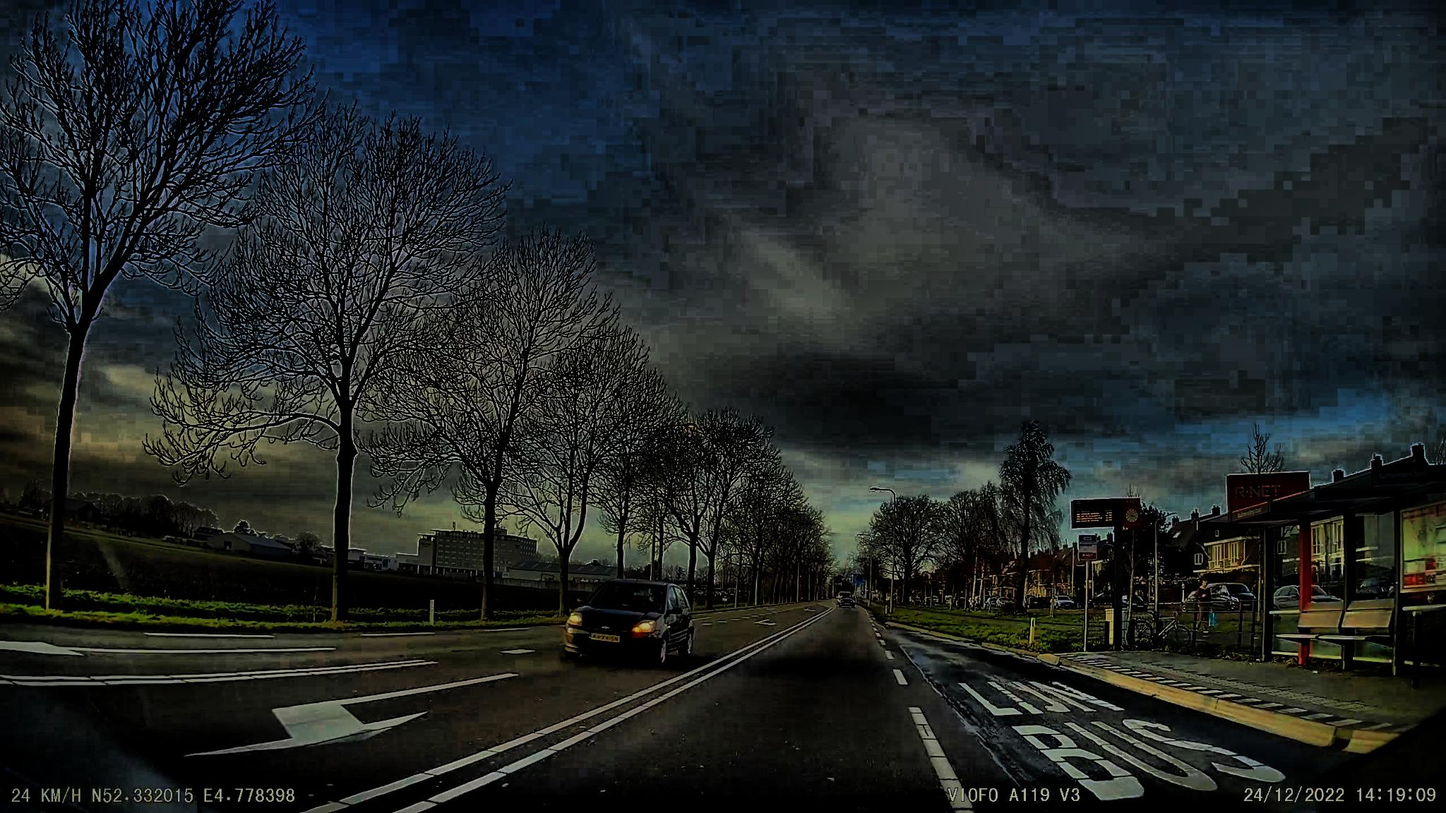Roads: (0, 605, 1344, 813)
